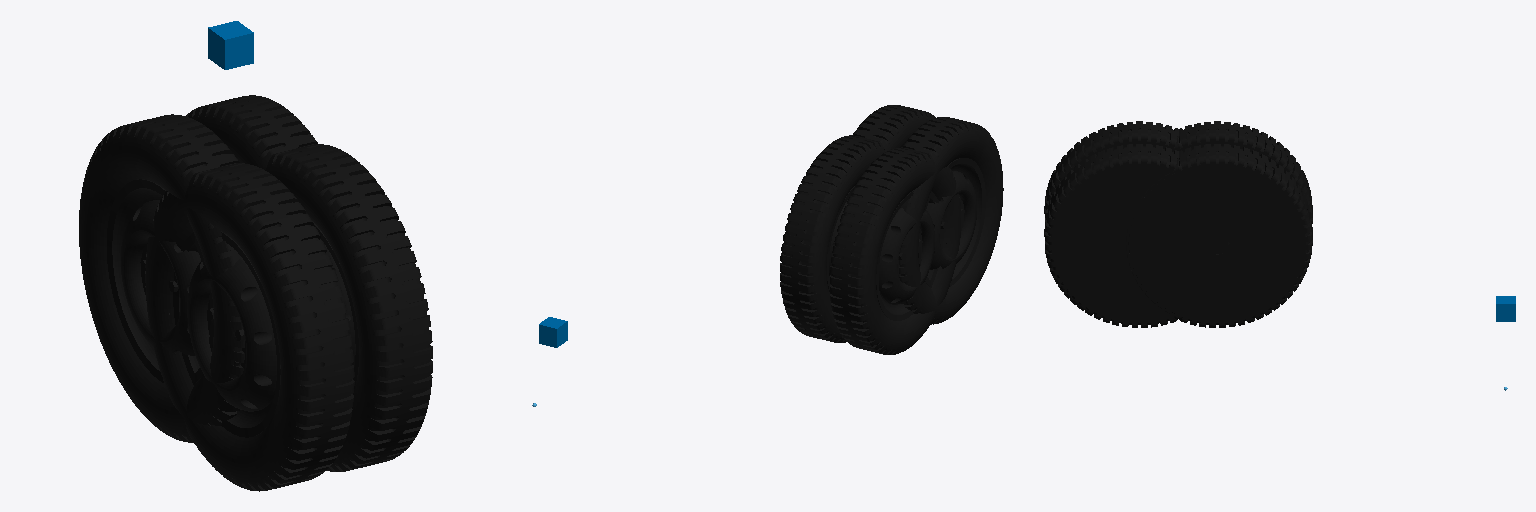
robot.urdf — pioneer3at:
<?xml version="1.0" ?>
<!-- =================================================================================== -->
<!-- |    This document was autogenerated by xacro from pioneer3at.urdf.xacro          | -->
<!-- |    EDITING THIS FILE BY HAND IS NOT RECOMMENDED                                 | -->
<!-- =================================================================================== -->
<robot name="pioneer3at" xmlns:controller="http://playerstage.sourceforge.net/gazebo/xmlschema/#controller" xmlns:interface="http://playerstage.sourceforge.net/gazebo/xmlschema/#interface" xmlns:sensor="http://playerstage.sourceforge.net/gazebo/xmlschema/#sensor" xmlns:xacro="http://ros.org/wiki/xacro">
  <!-- Chassis -->
  <link name="base_link">
    <!--  For pointers on inertial and gazebo-related parameters see
		       * http://wiki.ros.org/urdf/Tutorials/Adding%20Physical%20and%20Collision%20Properties%20to%20a%20URDF%20Model
                       * http://answers.gazebosim.org/question/4372/the-inertia-matrix-explained/
		       * http://gazebosim.org/tutorials?tut=inertia&cat=build_robot, and 
                       * http://gazebosim.org/tutorials/?tut=ros_urdf
                       * http://en.wikipedia.org/wiki/List_of_moment_of_inertia_tensors  
                -->
    <inertial>
      <mass value="21.5"/>
      <!-- P3AT 18.6kg plus three batteries @ 2.4kg each  minus four wheels @ 1.4 kg ea and top plate @ 0.1 kg-->
      <origin xyz=" -0.1 0 0.177"/>
      <inertia ixx="0.3338" ixy="0.0" ixz="0.0" iyy="0.4783" iyz="0.0" izz="0.3338"/>
    </inertial>
    <visual>
      <origin rpy="0 0 0" xyz="0 0 0.177"/>
      <geometry name="pioneer_geom">
        <mesh filename="package://amr_robots_description/meshes/p3at_meshes/chassis.stl"/>
      </geometry>
      <material name="ChassisRed">
        <color rgba="0.851 0.0 0.0 1.0"/>
      </material>
    </visual>
    <collision>
      <origin rpy="0 0 0" xyz="0 0 0.177"/>
      <geometry>
        <mesh filename="package://amr_robots_description/meshes/p3at_meshes/chassis.stl"/>
      </geometry>
    </collision>
  </link>
  <gazebo reference="base_link">
    <material value="Gazebo/Red"/>
  </gazebo>
  <!-- Top -->
  <link name="top_plate">
    <inertial>
      <mass value="0.1"/>
      <origin xyz="-0.025 0 -0.223"/>
      <inertia ixx="1.0" ixy="0.0" ixz="0.0" iyy="1.0" iyz="0.0" izz="1.0"/>
    </inertial>
    <visual>
      <origin rpy="0 0 0" xyz="0 0 0"/>
      <geometry name="pioneer_geom">
        <mesh filename="package://amr_robots_description/meshes/p3at_meshes/top.stl"/>
      </geometry>
      <material name="TopBlack">
        <color rgba="0.038 0.038 0.038 1.0"/>
      </material>
    </visual>
  </link>
  <gazebo reference="top_plate">
    <material>Gazebo/Black</material>
  </gazebo>
  <joint name="base_top_joint" type="fixed">
    <origin rpy="0 0 0" xyz="0.003 0 0.274"/>
    <parent link="base_link"/>
    <child link="top_plate"/>
  </joint>
  <!-- Front + Back Sonar -->
  <link name="front_sonar">
    <inertial>
      <mass value="0.1"/>
      <origin xyz="0 0 0"/>
      <inertia ixx="1.0" ixy="0.0" ixz="0.0" iyy="1.0" iyz="0.0" izz="1.0"/>
    </inertial>
    <visual>
      <origin rpy="0 0 0" xyz="0 0 0"/>
      <geometry name="pioneer_geom">
        <mesh filename="package://amr_robots_description/meshes/p3at_meshes/front_sonar.stl"/>
      </geometry>
      <material name="SonarYellow">
        <color rgba="0.715 0.583 0.210 1.0"/>
      </material>
    </visual>
  </link>
  <gazebo reference="front_sonar">
    <material value="Gazebo/Yellow"/>
  </gazebo>
  <joint name="base_front_joint" type="fixed">
    <origin rpy="0 0 0" xyz="0.193 0 0.25"/>
    <parent link="base_link"/>
    <child link="front_sonar"/>
  </joint>
  <link name="back_sonar">
    <inertial>
      <mass value="0.1"/>
      <origin xyz="0 0 0"/>
      <inertia ixx="1.0" ixy="0.0" ixz="0.0" iyy="1.0" iyz="0.0" izz="1.0"/>
    </inertial>
    <visual>
      <origin rpy="0 0 0" xyz="0 0 0"/>
      <geometry name="pioneer_geom">
        <mesh filename="package://amr_robots_description/meshes/p3at_meshes/back_sonar.stl"/>
      </geometry>
      <material name="SonarYellow">
        <color rgba="0.715 0.583 0.210 1.0"/>
      </material>
    </visual>
  </link>
  <gazebo reference="back_sonar">
    <material value="Gazebo/Yellow"/>
  </gazebo>
  <joint name="base_back_joint" type="fixed">
    <origin rpy="0 0 0" xyz="-0.187 0 0.247"/>
    <parent link="base_link"/>
    <child link="back_sonar"/>
  </joint>

  <!-- Camera -->
  <link name="camera_link">
    <visual>
      <origin xyz="0 0 0" rpy="0 0 0"/>
      <geometry>
        <box size="0.1 0.1 0.1"/>
      </geometry>
      <material name="red"/>
    </visual>
    <inertial>
      <mass value="1e-5" />
      <origin xyz="0 0 0" rpy="0 0 0"/>
      <inertia ixx="1e-6" ixy="0" ixz="0" iyy="1e-6" iyz="0" izz="1e-6" />
    </inertial>
  </link>
  <joint name="camera_joint" type="fixed">
    <axis xyz="0 0 0" />
    <!-- origin xyz="0.25 0 0.3" rpy="0 0 0"/-->
    <origin xyz="0 0 0.4" rpy="0 0 0"/>
    <parent link="base_link"/>
    <child link="camera_link"/>
  </joint>
  <gazebo reference="camera_link">
    <sensor type="camera" name="camera1">
      <update_rate>30.0</update_rate>
      <camera name="head">
        <horizontal_fov>1.3962634</horizontal_fov>
        <image>
          <width>800</width>
          <height>800</height>
          <format>R8G8B8</format>
        </image>
        <clip>
          <near>0.02</near>
          <far>300</far>
        </clip>
        <noise>
          <type>gaussian</type>
          <!-- Noise is sampled independently per pixel on each frame.
               That pixel's noise value is added to each of its color
               channels, which at that point lie in the range [0,1]. -->
          <mean>0.0</mean>
          <stddev>0.0</stddev>
        </noise>
        <!--lens>
          <intrinsics>
            <fx>664.08855107</fx>
            <fy>696.34981696</fy>
            <cx>157.07523994</cx>
            <cy>367.07921485</cy>
          </intrinsics>
        </lens-->
      </camera>
      <plugin name="camera_controller" filename="libgazebo_ros_camera.so">
        <alwaysOn>true</alwaysOn>
        <updateRate>0.0</updateRate>
        <cameraName>rrbot/camera1</cameraName>
        <imageTopicName>image_raw</imageTopicName>
        <cameraInfoTopicName>camera_info</cameraInfoTopicName>
        <frameName>camera_link</frameName>
        <hackBaseline>0.07</hackBaseline>
        <distortionK1>0.0</distortionK1>
        <distortionK2>0.0</distortionK2>
        <distortionK3>0.0</distortionK3>
        <distortionT1>0.0</distortionT1>
        <distortionT2>0.0</distortionT2>
      </plugin>
    </sensor>
  </gazebo>

  <!-- Front Axles + Wheels + Hubcaps -->
  <link name="p3at_front_left_axle">
    <inertial>
      <mass value="0.1"/>
      <origin xyz="0 0 0"/>
      <inertia ixx="1.0" ixy="0.0" ixz="0.0" iyy="1.0" iyz="0.0" izz="1.0"/>
    </inertial>
    <visual>
      <origin rpy="0 0 0" xyz="0 0 0"/>
      <geometry name="pioneer_geom">
        <mesh filename="package://amr_robots_description/meshes/p3at_meshes/axle.stl"/>
      </geometry>
      <material name="AxleGrey">
        <color rgba="0.5 0.5 0.5 1"/>
      </material>
    </visual>
  </link>
  <gazebo reference="p3at_front_left_axle">
    <material value="Gazebo/Grey"/>
  </gazebo>
  <joint name="base_front_left_axle_joint" type="fixed">
    <origin rpy="0 0 0" xyz="0.135 0.156 0.111"/>
    <parent link="base_link"/>
    <child link="p3at_front_left_axle"/>
  </joint>
  <link name="p3at_front_left_hub">
    <inertial>
      <mass value="0.1"/>
      <origin xyz="0 0 0"/>
      <inertia ixx="1.0" ixy="0.0" ixz="0.0" iyy="1.0" iyz="0.0" izz="1.0"/>
    </inertial>
    <visual>
      <origin rpy="0 0 0" xyz="0 0 0"/>
      <geometry name="pioneer_geom">
        <mesh filename="package://amr_robots_description/meshes/p3at_meshes/left_hubcap.stl"/>
      </geometry>
      <material name="HubcapYellow">
        <color rgba="1.0 0.811 0.151 1.0"/>
      </material>
    </visual>
  </link>
  <gazebo reference="p3at_front_left_hub">
    <material value="Gazebo/Yellow"/>
  </gazebo>
  <joint name="base_front_left_hub_joint" type="fixed">
    <origin rpy="0 0 0" xyz="0 0.041 0"/>
    <parent link="p3at_front_left_axle"/>
    <child link="p3at_front_left_hub"/>
  </joint>
  <link name="p3at_front_left_wheel">
    <inertial>
      <mass value="1.2"/>
      <!-- 1.4 kg - axle 0.1 kg - hub 0.1 kg -->
      <origin xyz="0 0 0"/>
      <inertia ixx="0.012411765597" ixy="0" ixz="0" iyy="0.015218160428" iyz="0" izz="0.011763977943"/>
    </inertial>
    <visual>
      <origin rpy="0 0 0" xyz="0 0 0"/>
      <geometry name="pioneer_geom">
        <mesh filename="package://amr_robots_description/meshes/p3at_meshes/wheel.stl"/>
      </geometry>
      <material name="WheelBlack">
        <color rgba="0.117 0.117 0.117 1"/>
      </material>
    </visual>
    <collision>
      <origin rpy="-1.57079635 0 0" xyz="0 0 0"/>
      <geometry>
        <!--mesh filename="package://amr_robots_description/meshes/p3at_meshes/wheel.stl"/-->
        <cylinder length="0.075" radius="0.111"/>
      </geometry>
    </collision>
  </link>
  <gazebo reference="p3at_front_left_wheel">
    <material value="Gazebo/Black"/>
  </gazebo>
  <joint name="p3at_front_left_wheel_joint" type="continuous">
    <axis xyz="0 1 0"/>
    <anchor xyz="0 0 0"/>
    <limit effort="100" velocity="100"/>
    <joint_properties damping="0.7"/>
    <origin rpy="0 0 0" xyz="0 0 0"/>
    <parent link="p3at_front_left_hub"/>
    <child link="p3at_front_left_wheel"/>
  </joint>
  <!-- Back Axles + Wheels + Hubcaps -->
  <link name="p3at_back_left_axle">
    <inertial>
      <mass value="0.1"/>
      <origin xyz="0 0 0"/>
      <inertia ixx="1.0" ixy="0.0" ixz="0.0" iyy="1.0" iyz="0.0" izz="1.0"/>
    </inertial>
    <visual>
      <origin rpy="0 0 0" xyz="0 0 0"/>
      <geometry name="pioneer_geom">
        <mesh filename="package://amr_robots_description/meshes/p3at_meshes/axle.stl"/>
      </geometry>
      <material name="AxleGrey">
        <color rgba="0.5 0.5 0.5 1"/>
      </material>
    </visual>
    <collision>
      <origin rpy="0 0 0" xyz="0 0 0"/>
      <geometry>
        <mesh filename="package://amr_robots_description/meshes/p3at_meshes/axle.stl"/>
      </geometry>
    </collision>
  </link>
  <gazebo reference="p3at_back_left_axle">
    <material value="Gazebo/Grey"/>
  </gazebo>
  <joint name="p3at_back_left_axle_joint" type="fixed">
    <origin rpy="0 0 0" xyz="-0.134 0.156 0.111"/>
    <parent link="base_link"/>
    <child link="p3at_back_left_axle"/>
  </joint>
  <link name="p3at_back_left_hub">
    <inertial>
      <mass value="0.1"/>
      <origin xyz="0 0 0"/>
      <inertia ixx="1.0" ixy="0.0" ixz="0.0" iyy="1.0" iyz="0.0" izz="1.0"/>
    </inertial>
    <visual>
      <origin rpy="0 0 0" xyz="0 0 0"/>
      <geometry name="pioneer_geom">
        <mesh filename="package://amr_robots_description/meshes/p3at_meshes/left_hubcap.stl"/>
      </geometry>
      <material name="HubcapYellow"/>
    </visual>
    <collision>
      <origin rpy="0 0 0" xyz="0 0 0"/>
      <geometry>
        <mesh filename="package://amr_robots_description/meshes/p3at_meshes/left_hubcap.stl"/>
      </geometry>
    </collision>
  </link>
  <gazebo reference="p3at_back_left_hub">
    <material value="Gazebo/Yellow"/>
  </gazebo>
  <joint name="p3at_back_left_hub_joint" type="fixed">
    <origin rpy="0 0 0" xyz="-0 0.041 0"/>
    <parent link="p3at_back_left_axle"/>
    <child link="p3at_back_left_hub"/>
  </joint>
  <link name="p3at_back_left_wheel">
    <inertial>
      <mass value="1.2"/>
      <origin xyz="0 0 0"/>
      <inertia ixx="0.012411765597" ixy="0" ixz="0" iyy="0.015218160428" iyz="0" izz="0.011763977943"/>
    </inertial>
    <visual>
      <origin rpy="0 0 0" xyz="0 0 0"/>
      <geometry name="pioneer_geom">
        <mesh filename="package://amr_robots_description/meshes/p3at_meshes/wheel.stl"/>
      </geometry>
      <material name="WheelBlack"/>
    </visual>
    <collision>
      <origin rpy="-1.57079635 0 0" xyz="0 0 0"/>
      <geometry>
        <!--mesh filename="package://amr_robots_description/meshes/p3at_meshes/wheel.stl"/-->
        <cylinder length="0.075" radius="0.111"/>
      </geometry>
    </collision>
  </link>
  <gazebo reference="p3at_back_left_wheel">
    <material value="Gazebo/Black"/>
  </gazebo>
  <joint name="p3at_back_left_wheel_joint" type="continuous">
    <axis xyz="0 1 0"/>
    <anchor xyz="0 0 0"/>
    <limit effort="100" velocity="100"/>
    <joint_properties damping="0.7"/>
    <origin rpy="0 0 0" xyz="0 0 0"/>
    <parent link="p3at_back_left_hub"/>
    <child link="p3at_back_left_wheel"/>
  </joint>
  <!-- see http://gazebosim.org/tutorials/?tut=ros_urdf -->
  <gazebo reference="p3at_back_left_wheel">
    <kp>1000000.0</kp>
    <!-- kp and kd for rubber -->
    <kd>100.0</kd>
    <mu1>1.0</mu1>
    <!-- was 10 -->
    <mu2>1.0</mu2>
    <!-- how to get these into <surface><friction><ode>... ?
        slip1 0.5 /slip1 
         slip2 0 /slip2 
      -->
    <!-- fdir1 0 1 0 /fdir1 -->
    <!-- see http://github.com/MobileRobots/amr-ros-config/issues/6 -->
    <maxVel>1.0</maxVel>
    <minDepth>0.00</minDepth>
    <material value="Gazebo/Black"/>
  </gazebo>
  <gazebo reference="p3at_front_left_wheel">
    <kp>1000000.0</kp>
    <!-- kp and kd for rubber -->
    <kd>100.0</kd>
    <mu1>1.0</mu1>
    <!-- was 10 -->
    <mu2>1.0</mu2>
    <!-- how to get these into <surface><friction><ode>... ?
        slip1 0.5 /slip1 
         slip2 0 /slip2 
      -->
    <!-- fdir1 0 1 0 /fdir1 -->
    <!-- see http://github.com/MobileRobots/amr-ros-config/issues/6 -->
    <maxVel>1.0</maxVel>
    <minDepth>0.00</minDepth>
    <material value="Gazebo/Black"/>
  </gazebo>
  <!-- Front Axles + Wheels + Hubcaps -->
  <link name="p3at_front_right_axle">
    <inertial>
      <mass value="0.1"/>
      <origin xyz="0 0 0"/>
      <inertia ixx="1.0" ixy="0.0" ixz="0.0" iyy="1.0" iyz="0.0" izz="1.0"/>
    </inertial>
    <visual>
      <origin rpy="0 0 0" xyz="0 0 0"/>
      <geometry name="pioneer_geom">
        <mesh filename="package://amr_robots_description/meshes/p3at_meshes/axle.stl"/>
      </geometry>
      <material name="AxleGrey">
        <color rgba="0.5 0.5 0.5 1"/>
      </material>
    </visual>
  </link>
  <gazebo reference="p3at_front_right_axle">
    <material value="Gazebo/Grey"/>
  </gazebo>
  <joint name="base_front_right_axle_joint" type="fixed">
    <origin rpy="0 0 0" xyz="0.135 -0.156 0.111"/>
    <parent link="base_link"/>
    <child link="p3at_front_right_axle"/>
  </joint>
  <link name="p3at_front_right_hub">
    <inertial>
      <mass value="0.1"/>
      <origin xyz="0 0 0"/>
      <inertia ixx="1.0" ixy="0.0" ixz="0.0" iyy="1.0" iyz="0.0" izz="1.0"/>
    </inertial>
    <visual>
      <origin rpy="0 0 0" xyz="0 0 0"/>
      <geometry name="pioneer_geom">
        <mesh filename="package://amr_robots_description/meshes/p3at_meshes/right_hubcap.stl"/>
      </geometry>
      <material name="HubcapYellow">
        <color rgba="1.0 0.811 0.151 1.0"/>
      </material>
    </visual>
  </link>
  <gazebo reference="p3at_front_right_hub">
    <material value="Gazebo/Yellow"/>
  </gazebo>
  <joint name="base_front_right_hub_joint" type="fixed">
    <origin rpy="0 0 0" xyz="0 -0.041 0"/>
    <parent link="p3at_front_right_axle"/>
    <child link="p3at_front_right_hub"/>
  </joint>
  <link name="p3at_front_right_wheel">
    <inertial>
      <mass value="1.2"/>
      <!-- 1.4 kg - axle 0.1 kg - hub 0.1 kg -->
      <origin xyz="0 0 0"/>
      <inertia ixx="0.012411765597" ixy="0" ixz="0" iyy="0.015218160428" iyz="0" izz="0.011763977943"/>
    </inertial>
    <visual>
      <origin rpy="0 0 0" xyz="0 0 0"/>
      <geometry name="pioneer_geom">
        <mesh filename="package://amr_robots_description/meshes/p3at_meshes/wheel.stl"/>
      </geometry>
      <material name="WheelBlack">
        <color rgba="0.117 0.117 0.117 1"/>
      </material>
    </visual>
    <collision>
      <origin rpy="-1.57079635 0 0" xyz="0 0 0"/>
      <geometry>
        <!--mesh filename="package://amr_robots_description/meshes/p3at_meshes/wheel.stl"/-->
        <cylinder length="0.075" radius="0.111"/>
      </geometry>
    </collision>
  </link>
  <gazebo reference="p3at_front_right_wheel">
    <material value="Gazebo/Black"/>
  </gazebo>
  <joint name="p3at_front_right_wheel_joint" type="continuous">
    <axis xyz="0 1 0"/>
    <anchor xyz="0 0 0"/>
    <limit effort="100" velocity="100"/>
    <joint_properties damping="0.7"/>
    <origin rpy="0 0 0" xyz="0 0 0"/>
    <parent link="p3at_front_right_hub"/>
    <child link="p3at_front_right_wheel"/>
  </joint>
  <!-- Back Axles + Wheels + Hubcaps -->
  <link name="p3at_back_right_axle">
    <inertial>
      <mass value="0.1"/>
      <origin xyz="0 0 0"/>
      <inertia ixx="1.0" ixy="0.0" ixz="0.0" iyy="1.0" iyz="0.0" izz="1.0"/>
    </inertial>
    <visual>
      <origin rpy="0 0 0" xyz="0 0 0"/>
      <geometry name="pioneer_geom">
        <mesh filename="package://amr_robots_description/meshes/p3at_meshes/axle.stl"/>
      </geometry>
      <material name="AxleGrey">
        <color rgba="0.5 0.5 0.5 1"/>
      </material>
    </visual>
    <collision>
      <origin rpy="0 0 0" xyz="0 0 0"/>
      <geometry>
        <mesh filename="package://amr_robots_description/meshes/p3at_meshes/axle.stl"/>
      </geometry>
    </collision>
  </link>
  <gazebo reference="p3at_back_right_axle">
    <material value="Gazebo/Grey"/>
  </gazebo>
  <joint name="p3at_back_right_axle_joint" type="fixed">
    <origin rpy="0 0 0" xyz="-0.134 -0.156 0.111"/>
    <parent link="base_link"/>
    <child link="p3at_back_right_axle"/>
  </joint>
  <link name="p3at_back_right_hub">
    <inertial>
      <mass value="0.1"/>
      <origin xyz="0 0 0"/>
      <inertia ixx="1.0" ixy="0.0" ixz="0.0" iyy="1.0" iyz="0.0" izz="1.0"/>
    </inertial>
    <visual>
      <origin rpy="0 0 0" xyz="0 0 0"/>
      <geometry name="pioneer_geom">
        <mesh filename="package://amr_robots_description/meshes/p3at_meshes/right_hubcap.stl"/>
      </geometry>
      <material name="HubcapYellow"/>
    </visual>
    <collision>
      <origin rpy="0 0 0" xyz="0 0 0"/>
      <geometry>
        <mesh filename="package://amr_robots_description/meshes/p3at_meshes/right_hubcap.stl"/>
      </geometry>
    </collision>
  </link>
  <gazebo reference="p3at_back_right_hub">
    <material value="Gazebo/Yellow"/>
  </gazebo>
  <joint name="p3at_back_right_hub_joint" type="fixed">
    <origin rpy="0 0 0" xyz="-0 -0.041 0"/>
    <parent link="p3at_back_right_axle"/>
    <child link="p3at_back_right_hub"/>
  </joint>
  <link name="p3at_back_right_wheel">
    <inertial>
      <mass value="1.2"/>
      <origin xyz="0 0 0"/>
      <inertia ixx="0.012411765597" ixy="0" ixz="0" iyy="0.015218160428" iyz="0" izz="0.011763977943"/>
    </inertial>
    <visual>
      <origin rpy="0 0 0" xyz="0 0 0"/>
      <geometry name="pioneer_geom">
        <mesh filename="package://amr_robots_description/meshes/p3at_meshes/wheel.stl"/>
      </geometry>
      <material name="WheelBlack"/>
    </visual>
    <collision>
      <origin rpy="-1.57079635 0 0" xyz="0 0 0"/>
      <geometry>
        <!--mesh filename="package://amr_robots_description/meshes/p3at_meshes/wheel.stl"/-->
        <cylinder length="0.075" radius="0.111"/>
      </geometry>
    </collision>
  </link>
  <gazebo reference="p3at_back_right_wheel">
    <material value="Gazebo/Black"/>
  </gazebo>
  <joint name="p3at_back_right_wheel_joint" type="continuous">
    <axis xyz="0 1 0"/>
    <anchor xyz="0 0 0"/>
    <limit effort="100" velocity="100"/>
    <joint_properties damping="0.7"/>
    <origin rpy="0 0 0" xyz="0 0 0"/>
    <parent link="p3at_back_right_hub"/>
    <child link="p3at_back_right_wheel"/>
  </joint>
  <!-- see http://gazebosim.org/tutorials/?tut=ros_urdf -->
  <gazebo reference="p3at_back_right_wheel">
    <kp>1000000.0</kp>
    <!-- kp and kd for rubber -->
    <kd>100.0</kd>
    <mu1>1.0</mu1>
    <!-- was 10 -->
    <mu2>1.0</mu2>
    <!-- how to get these into <surface><friction><ode>... ?
        slip1 0.5 /slip1 
         slip2 0 /slip2 
      -->
    <!-- fdir1 0 1 0 /fdir1 -->
    <!-- see http://github.com/MobileRobots/amr-ros-config/issues/6 -->
    <maxVel>1.0</maxVel>
    <minDepth>0.00</minDepth>
    <material value="Gazebo/Black"/>
  </gazebo>
  <gazebo reference="p3at_front_right_wheel">
    <kp>1000000.0</kp>
    <!-- kp and kd for rubber -->
    <kd>100.0</kd>
    <mu1>1.0</mu1>
    <!-- was 10 -->
    <mu2>1.0</mu2>
    <!-- how to get these into <surface><friction><ode>... ?
        slip1 0.5 /slip1 
         slip2 0 /slip2 
      -->
    <!-- fdir1 0 1 0 /fdir1 -->
    <!-- see http://github.com/MobileRobots/amr-ros-config/issues/6 -->
    <maxVel>1.0</maxVel>
    <minDepth>0.00</minDepth>
    <material value="Gazebo/Black"/>
  </gazebo>
  <link name="dir_point">
    <inertial>
      <mass value="0.1"/>
      <origin xyz="0.1 0 0" rpy="0 0 0"/>
      <inertia ixx="0.3338" ixy="0.0" ixz="0.0" iyy="0.4783" iyz="0.0" izz="0.3338"/>
    </inertial>
    <visual>
      <geometry>
        <sphere radius="0.01"/>
      </geometry>
      <material name="white"/>
    </visual>
  </link>
  <gazebo reference="dir_point">
    <material value="Gazebo/White"/>
  </gazebo>
  <joint name="dir_point_joint" type="prismatic">
    <axis xyz="1 0 0"/>
    <limit effort="0" velocity="0" lower="0" upper="0"/>
    <origin rpy="0 0 0" xyz="0.1 0 0"/>
    <parent link="base_link"/>
    <child link="dir_point"/>
  </joint>
  <gazebo>
    <plugin filename="libgazebo_ros_skid_steer_drive.so" name="skid_steer_drive_controller">
      <updateRate>100.0</updateRate>
      <leftFrontJoint>p3at_front_left_wheel_joint</leftFrontJoint>
      <rightFrontJoint>p3at_front_right_wheel_joint</rightFrontJoint>
      <leftRearJoint>p3at_back_left_wheel_joint</leftRearJoint>
      <rightRearJoint>p3at_back_right_wheel_joint</rightRearJoint>
      <wheelSeparation>0.4</wheelSeparation>
      <wheelDiameter>0.215</wheelDiameter>
      <robotBaseFrame>base_link</robotBaseFrame>
      <MaxForce>5.0</MaxForce>
      <torque>200</torque>
      <commandTopic>cmd_vel</commandTopic>
      <odometryTopic>odom</odometryTopic>
      <odometryFrame>odom</odometryFrame>
      <broadcastTF>1</broadcastTF>
    </plugin>
  </gazebo>
</robot>

--- What the picture shows (computed from the rendered views, not written in the file) ---
The picture shows the robot from 3 angles, left to right: view 1: azimuth 30°, elevation 25°; view 2: azimuth 150°, elevation 25°; view 3: azimuth 270°, elevation 25°; orthographic projection.
Model pioneer3at with 18 links and 17 joints (4 continuous, 1 prismatic, 12 fixed), rooted at base_link, posed all joints at 0.
Links seen in each view (by area): view 1: p3at_back_right_wheel, p3at_back_left_wheel, p3at_front_right_wheel, p3at_front_left_wheel, camera_link; view 2: p3at_back_left_wheel, p3at_back_right_wheel, p3at_front_left_wheel, p3at_front_right_wheel, camera_link; view 3: p3at_front_left_wheel, p3at_front_right_wheel, p3at_back_left_wheel, p3at_back_right_wheel.
Link boxes in pixels (x1,y1,x2,y2): p3at_back_right_wheel: (145,163,354,491); p3at_back_left_wheel: (79,114,244,442); p3at_front_right_wheel: (265,144,432,471); p3at_front_left_wheel: (186,95,317,169); camera_link: (208,21,253,69); p3at_back_left_wheel: (830,147,960,354); p3at_back_right_wheel: (899,117,1003,324); p3at_front_left_wheel: (780,135,884,342); p3at_front_right_wheel: (853,105,935,151); camera_link: (539,317,567,347); p3at_front_left_wheel: (1126,144,1312,327); p3at_front_right_wheel: (1044,144,1229,327); p3at_back_left_wheel: (1173,121,1312,223); p3at_back_right_wheel: (1044,121,1181,217).
Bounding box of the posed robot: 1.23 × 2.39 × 0.967 m (x, y, z).
4 mesh visuals loaded from 8 distinct referenced files (1 binary STL); not drawn: 12 (reference not matched to a file when rendering).